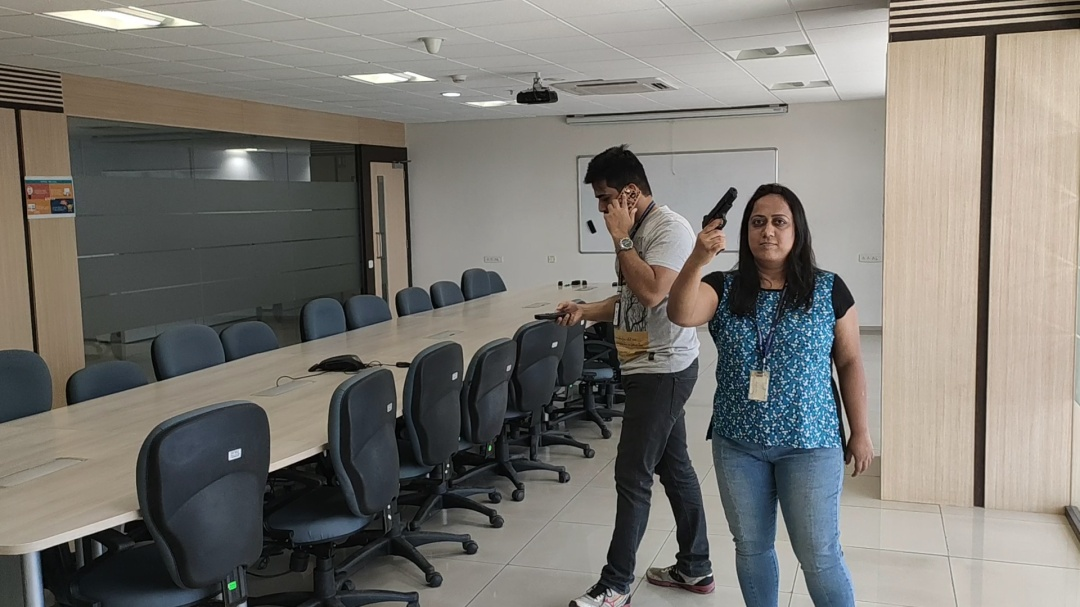gun: (701, 184, 739, 232)
